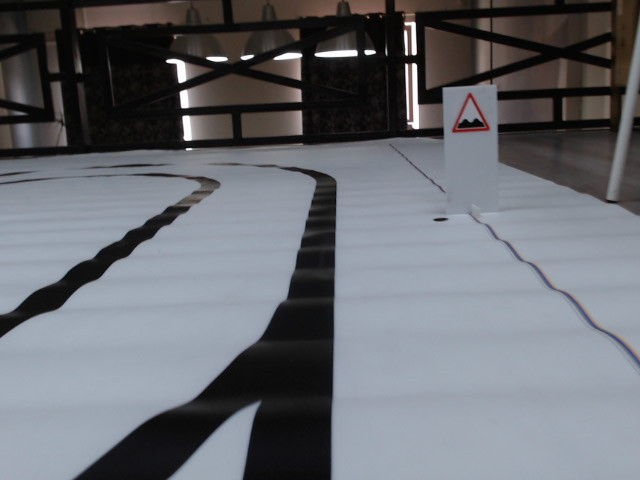Nerov: (451, 93, 492, 135)
